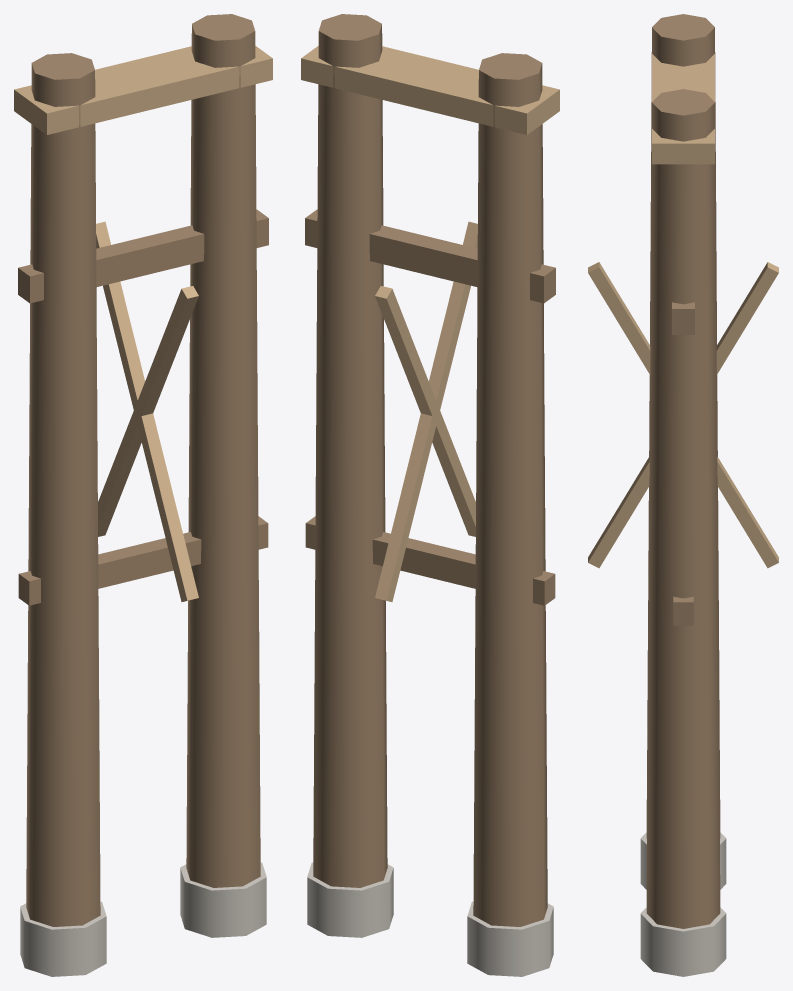
The model's file is bridge_pier.glb.
3 views of the same model, side by side, from view 1: azimuth 30°, elevation 25°; view 2: azimuth 150°, elevation 25°; view 3: azimuth 270°, elevation 25° (orthographic). The views are drawn at different scales.
Parts seen in each view (by area): view 1: bridge_pier; view 2: bridge_pier; view 3: bridge_pier.
Boxes of the visible parts, x1,y1,x2,y2 form: bridge_pier: (14,14,272,976); bridge_pier: (301,14,559,976); bridge_pier: (588,14,778,976).
Bounding box in the file's own units: 1.85 × 6.6 × 1.33.
